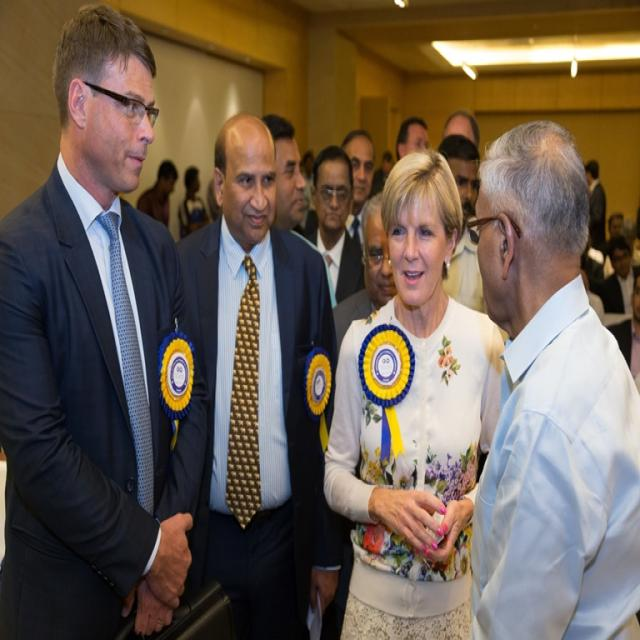body: (0, 0, 207, 639), (319, 140, 532, 639), (462, 116, 640, 639), (178, 109, 338, 640), (314, 185, 463, 639), (331, 191, 397, 359), (428, 133, 488, 315), (301, 142, 366, 308), (306, 145, 366, 309), (301, 105, 482, 143), (336, 142, 391, 248), (598, 234, 639, 368), (338, 125, 379, 251), (602, 265, 640, 399), (136, 158, 179, 230), (178, 164, 209, 238), (584, 159, 608, 250), (606, 208, 626, 236)
